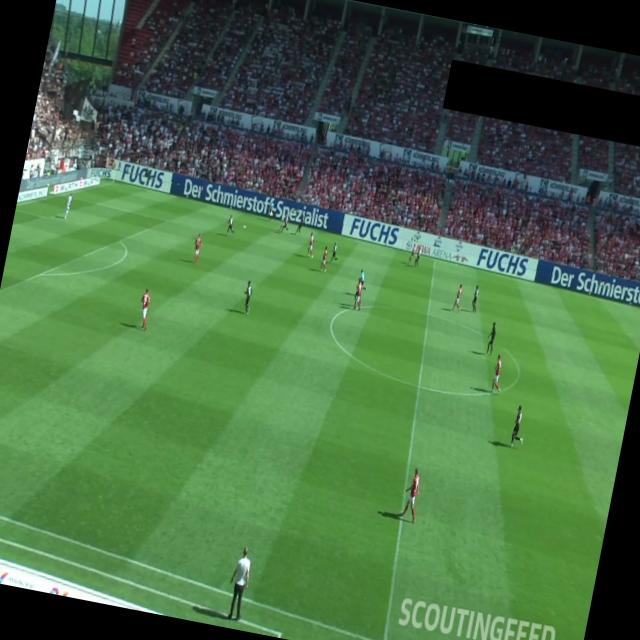ball: (242, 224, 246, 230)
goalkeeper: (62, 192, 74, 220)
player: (400, 466, 426, 524), (509, 404, 530, 449), (136, 287, 154, 331), (490, 353, 508, 395), (240, 280, 256, 316), (484, 321, 498, 356), (352, 277, 366, 311), (452, 282, 466, 312), (191, 233, 204, 263), (471, 284, 482, 314), (306, 232, 318, 259), (319, 246, 331, 273), (330, 240, 342, 266), (278, 213, 292, 234), (225, 214, 238, 236), (408, 242, 418, 264), (413, 246, 422, 268), (294, 218, 304, 236)
referee: (356, 268, 370, 296), (266, 199, 276, 222)
